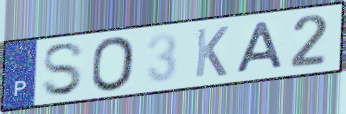2: (289, 13, 331, 71)
3: (145, 31, 181, 86)
A: (234, 19, 286, 76)
K: (193, 24, 231, 80)
O: (90, 35, 137, 93)
S: (40, 40, 87, 99)
